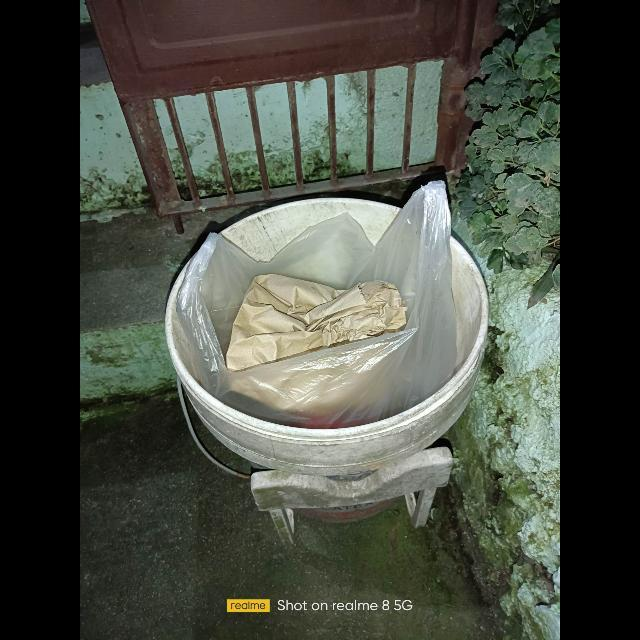paper: (226, 274, 408, 371)
plastic: (180, 181, 457, 430)
